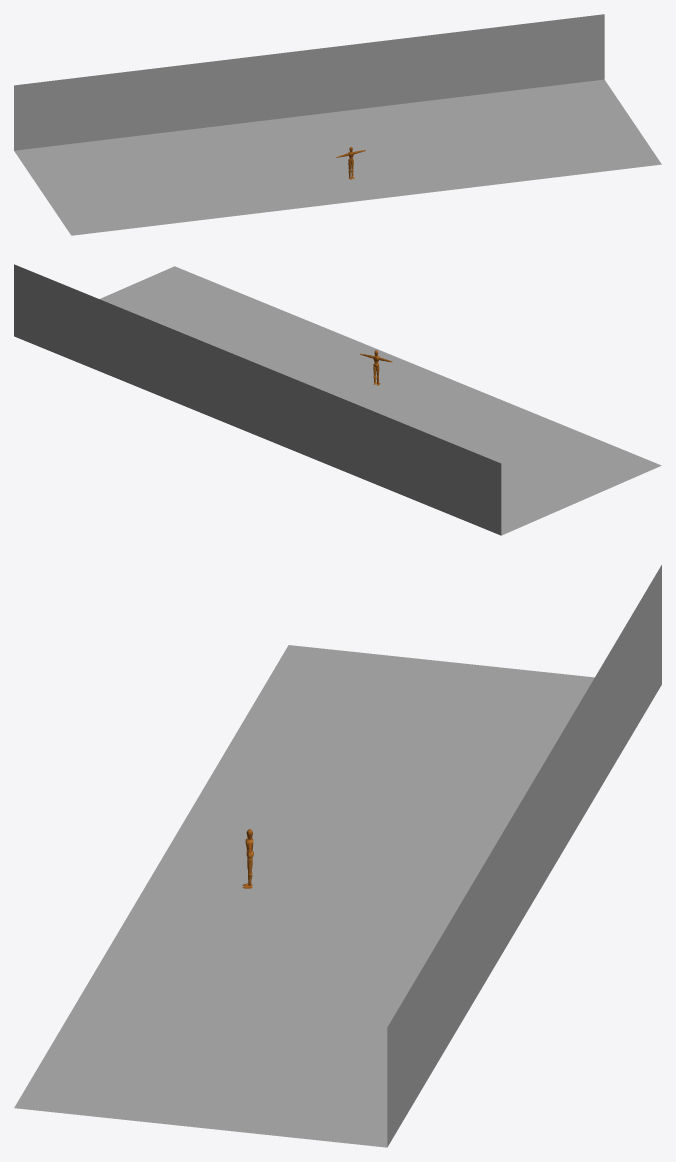
File: dum.fbx
3 renders of one model, top to bottom at view 1: azimuth 30°, elevation 25°; view 2: azimuth 150°, elevation 25°; view 3: azimuth 270°, elevation 25°, orthographic. The views are drawn at different scales.
Visible parts, largest first — view 1: pPlane1; view 2: pPlane1; view 3: pPlane1.
Boxes of the visible parts, x1,y1,x2,y2 form: pPlane1: (14,14,661,235); pPlane1: (14,264,661,535); pPlane1: (14,565,661,1147).
Size of the model in its own units: 3359 by 375 by 1830.
